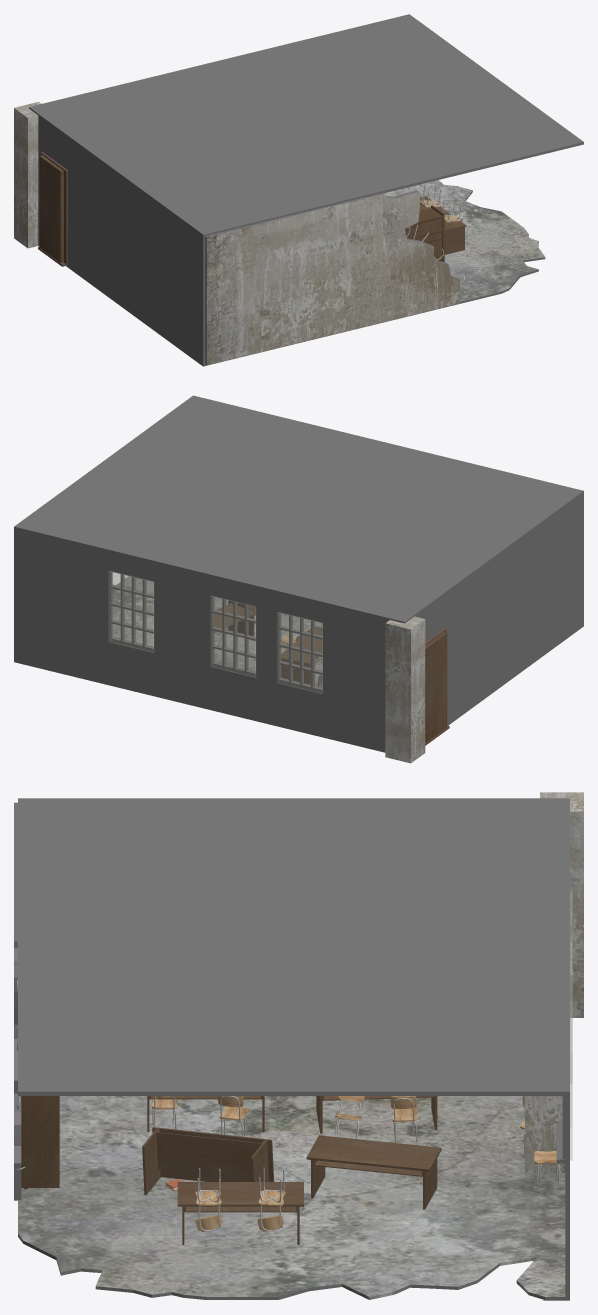
The model's file is env_old_classroom.glb.
3 views of the same model, one above another, from view 1: azimuth 30°, elevation 25°; view 2: azimuth 150°, elevation 25°; view 3: azimuth 270°, elevation 25° (orthographic). The views are drawn at different scales.
Parts seen in each view (by area): view 1: pCylinder51; view 2: pCylinder51; view 3: pCylinder51.
Boxes of the visible parts, bbox=[...] form: pCylinder51: bbox=[14, 14, 583, 366]; pCylinder51: bbox=[14, 395, 583, 763]; pCylinder51: bbox=[14, 792, 583, 1300].
Bounding box in the file's own units: 14.37 × 4.63 × 11.47.
9 materials, 1 textured.
